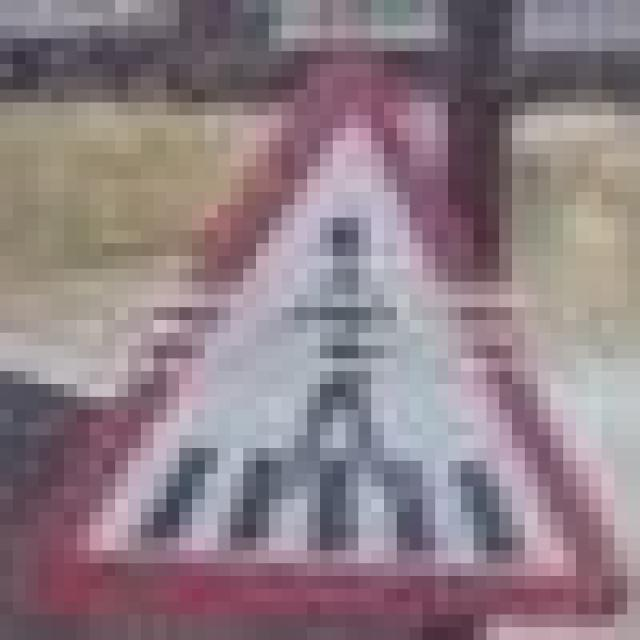pass_either_side: (0, 26, 627, 614)
